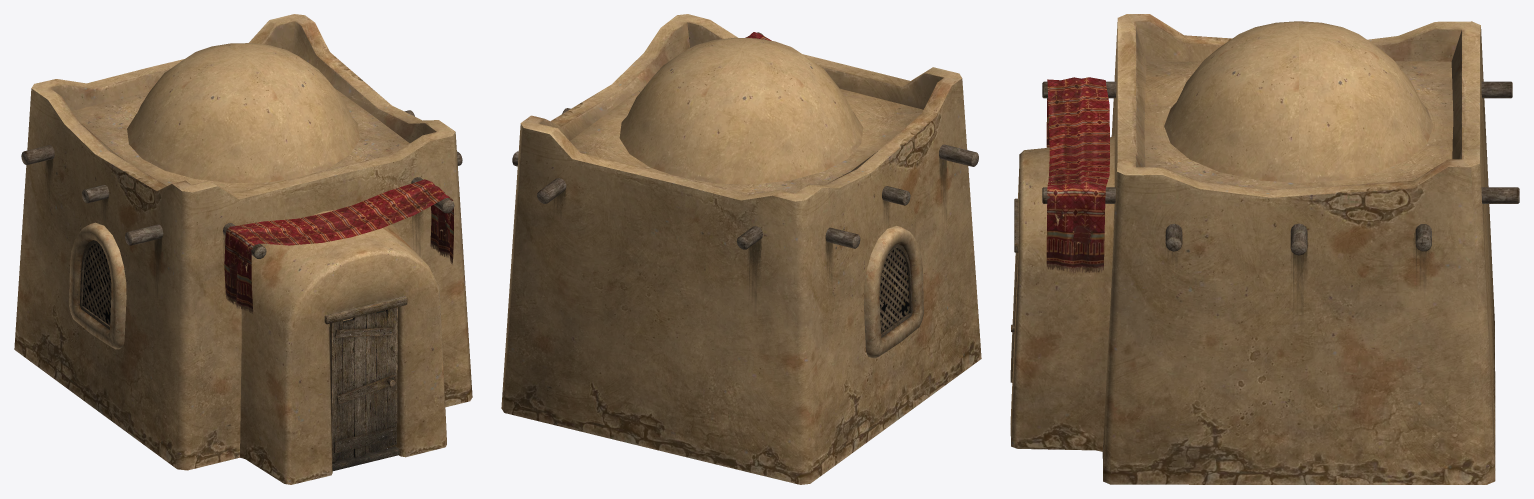
The model's file is desert_house.glb.
The picture shows the model from 3 angles, left to right: view 1: azimuth 30°, elevation 25°; view 2: azimuth 150°, elevation 25°; view 3: azimuth 270°, elevation 25°; orthographic projection. The views are drawn at different scales.
Visible parts, largest first — view 1: Object_2, Object_4, Object_5, Object_3; view 2: Object_2, Object_5, Object_3; view 3: Object_2, Object_3.
Part boxes in pixels (left/top/right/bottom): Object_2: left=14, top=14, right=472, bottom=484; Object_4: left=324, top=296, right=407, bottom=470; Object_5: left=69, top=222, right=126, bottom=349; Object_3: left=46, top=159, right=422, bottom=294; Object_2: left=501, top=14, right=981, bottom=484; Object_5: left=863, top=225, right=923, bottom=358; Object_3: left=554, top=157, right=947, bottom=301; Object_2: left=1010, top=14, right=1519, bottom=484; Object_3: left=1113, top=98, right=1484, bottom=304.
Bounding box in the file's own units: 4.47 × 4.04 × 5.05.
4 materials, 4 textured.
